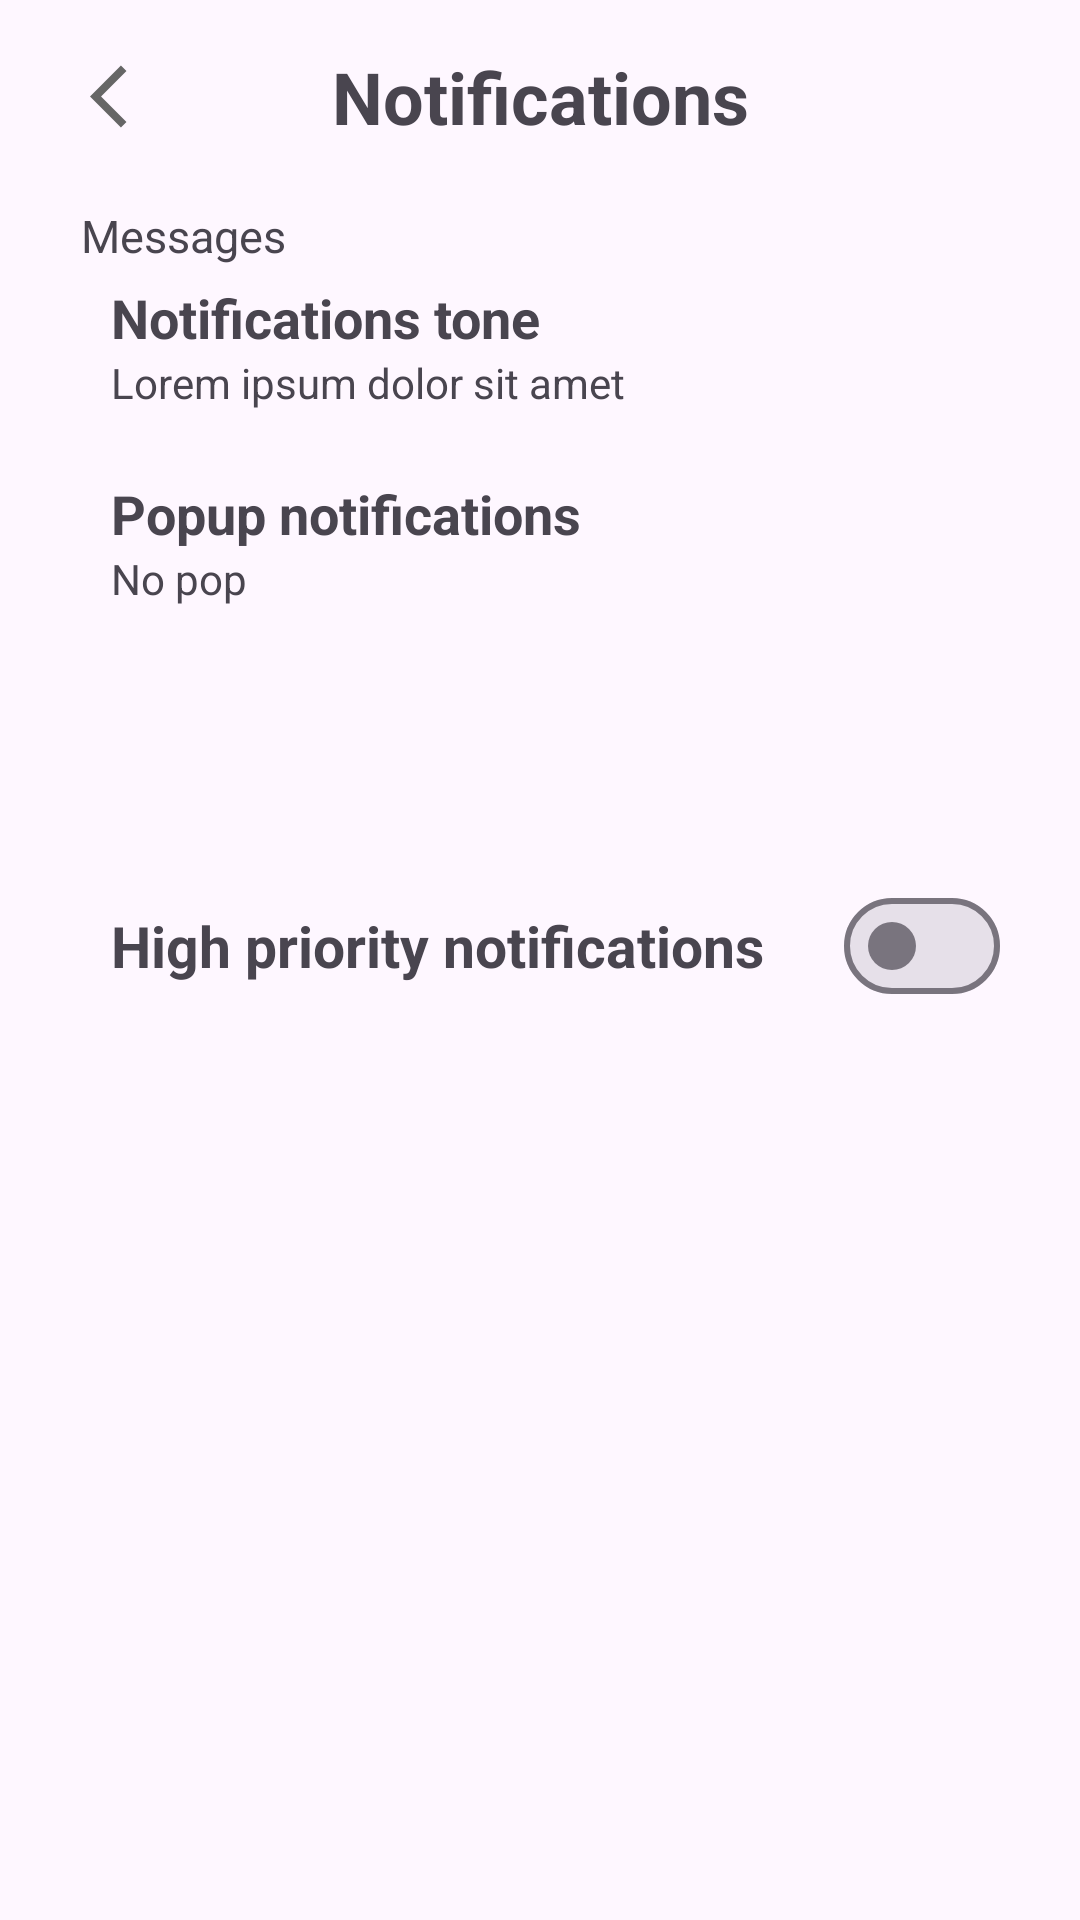

Locate icon controls on the screen. Image size 1080x1920, boxes as (x1, y1, x2, y2).
back arrow: (90, 66, 126, 128)
